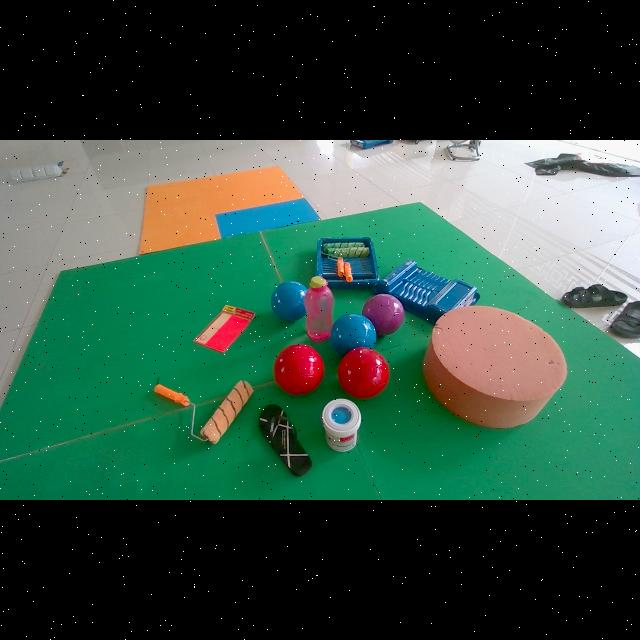B: (330, 313, 376, 355), (271, 282, 306, 322)
P: (362, 294, 405, 336)
R: (338, 347, 389, 399), (274, 345, 324, 395)
